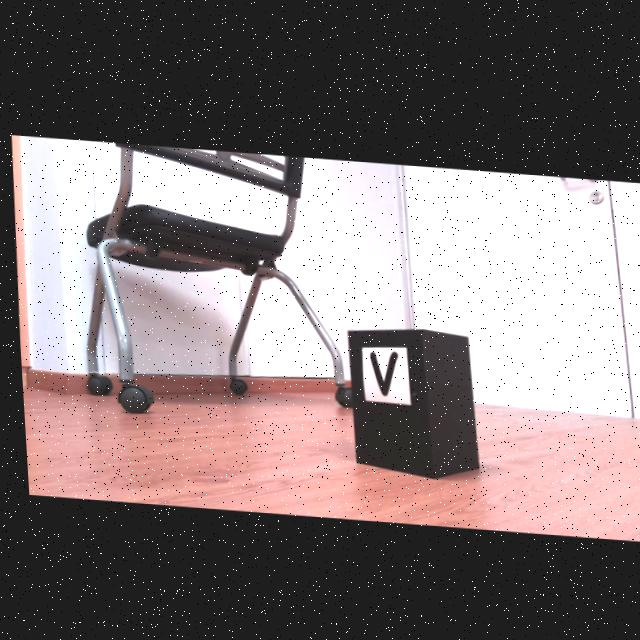V: (365, 347, 393, 392)
